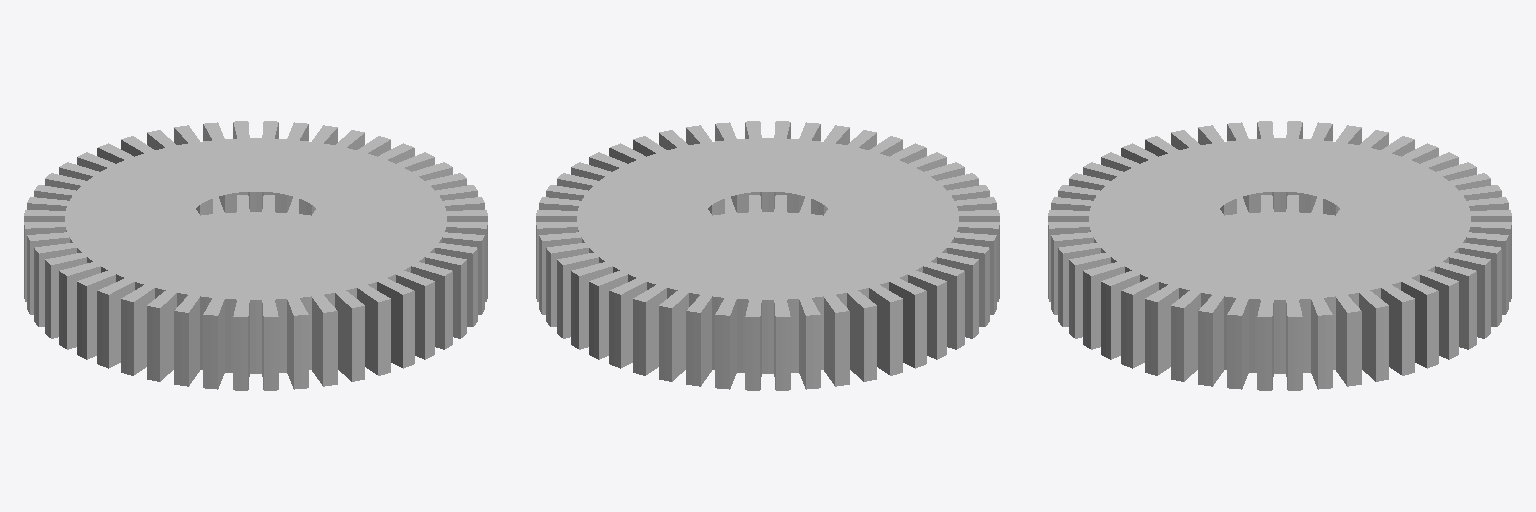
The model's file is gear.obj.
The picture shows the model from 3 angles: view 1: azimuth 30°, elevation 25°; view 2: azimuth 150°, elevation 25°; view 3: azimuth 270°, elevation 25°; orthographic projection.
Visible parts, largest first — view 1: Gear; view 2: Gear; view 3: Gear.
Boxes of the visible parts, x1=… form: Gear: x1=24, y1=121, x2=487, y2=390; Gear: x1=536, y1=121, x2=999, y2=390; Gear: x1=1048, y1=121, x2=1511, y2=390.
Bounding box in the file's own units: 2.28 × 0.4 × 2.28.